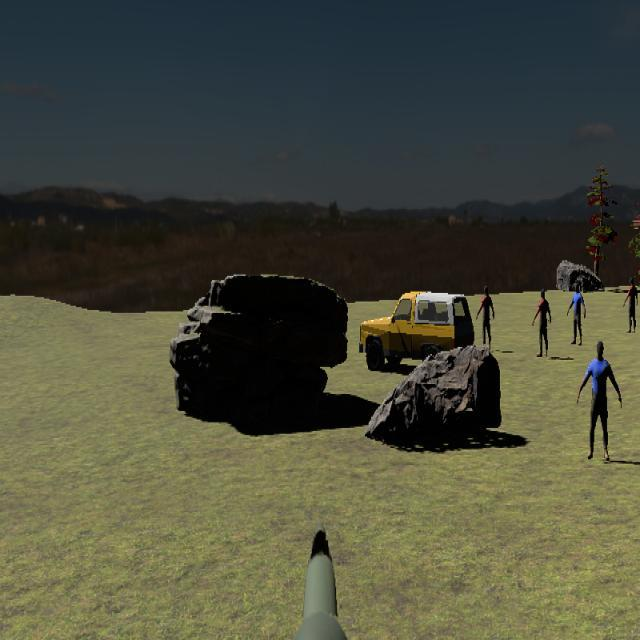Human: (577, 339, 622, 461), (567, 280, 586, 346)
car: (359, 289, 476, 372)
